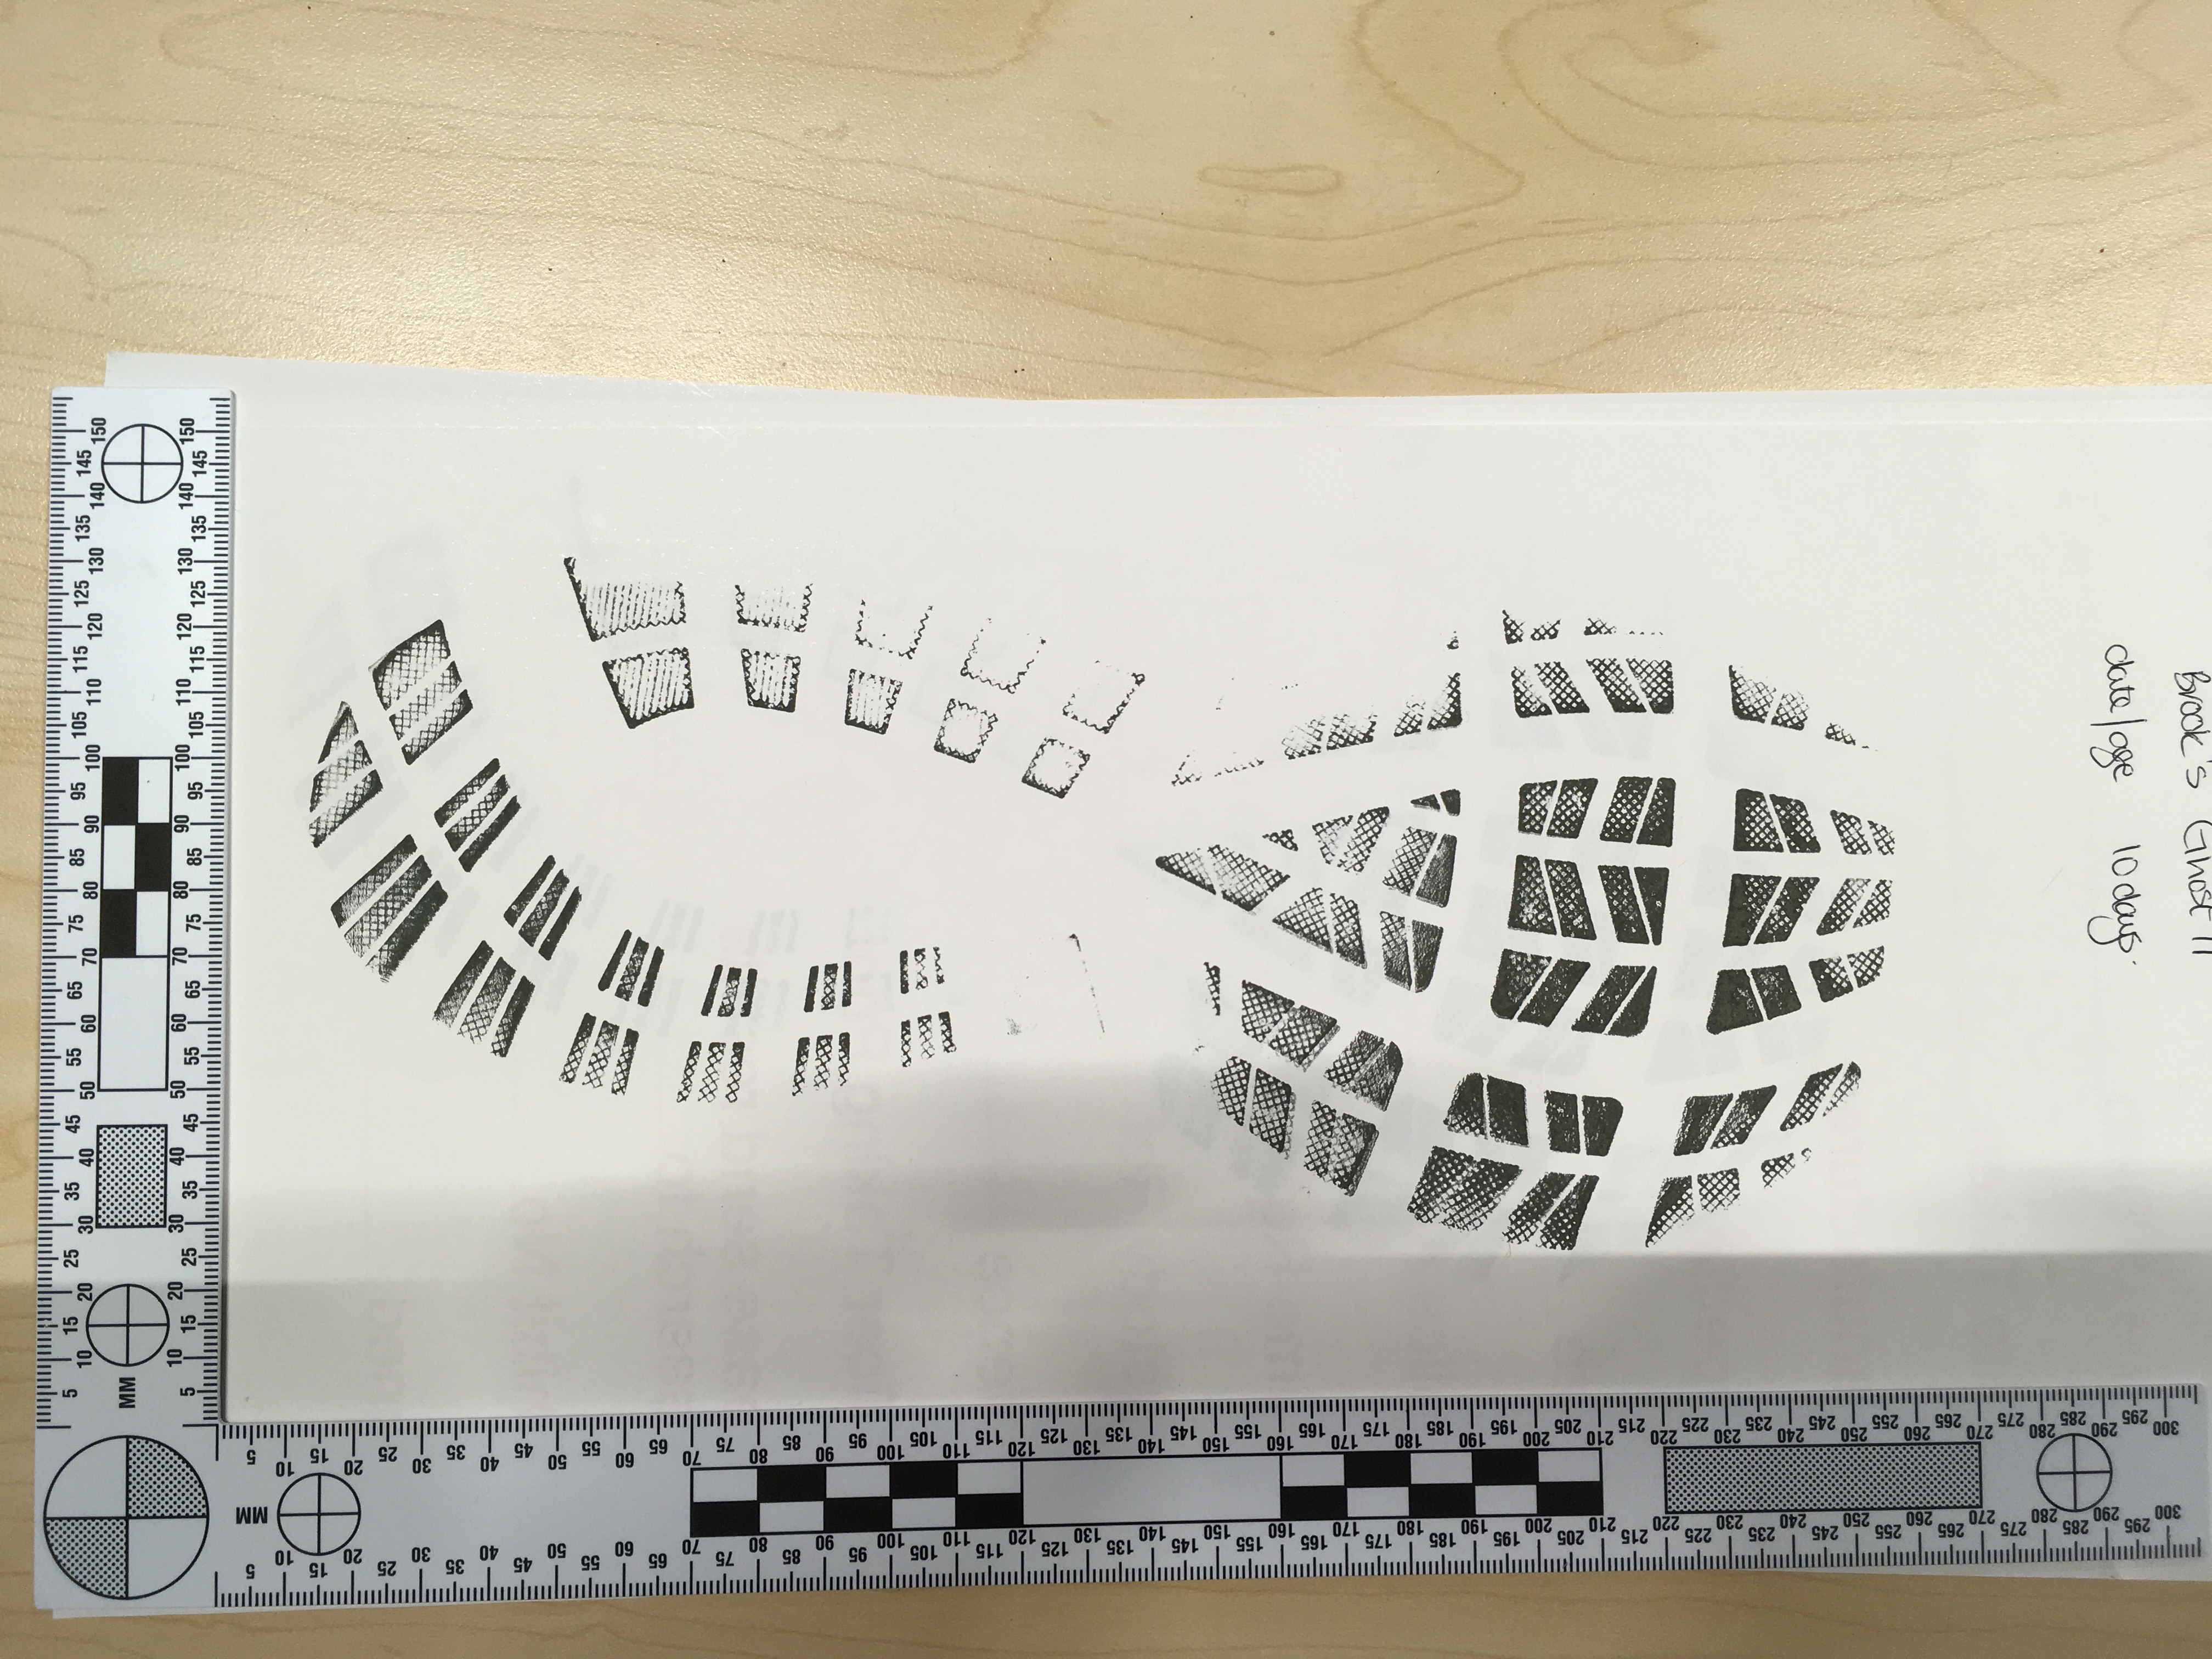footwear: (300, 549, 1905, 1269)
